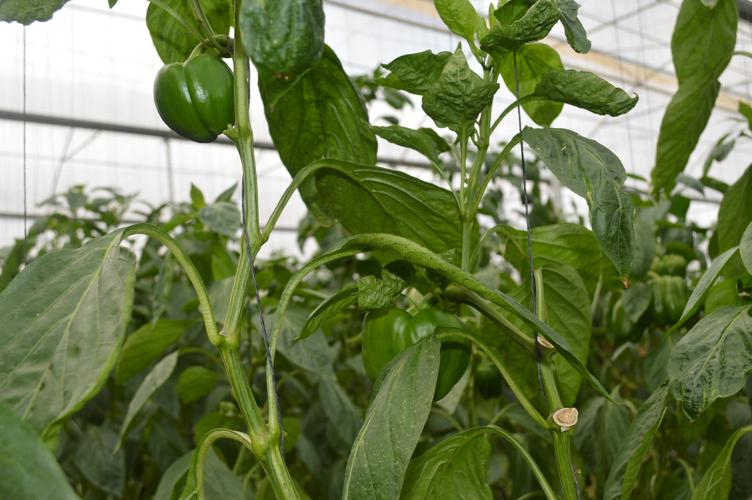BellPepper: (355, 309, 463, 400), (145, 54, 235, 147), (651, 276, 689, 325), (606, 299, 644, 344)
